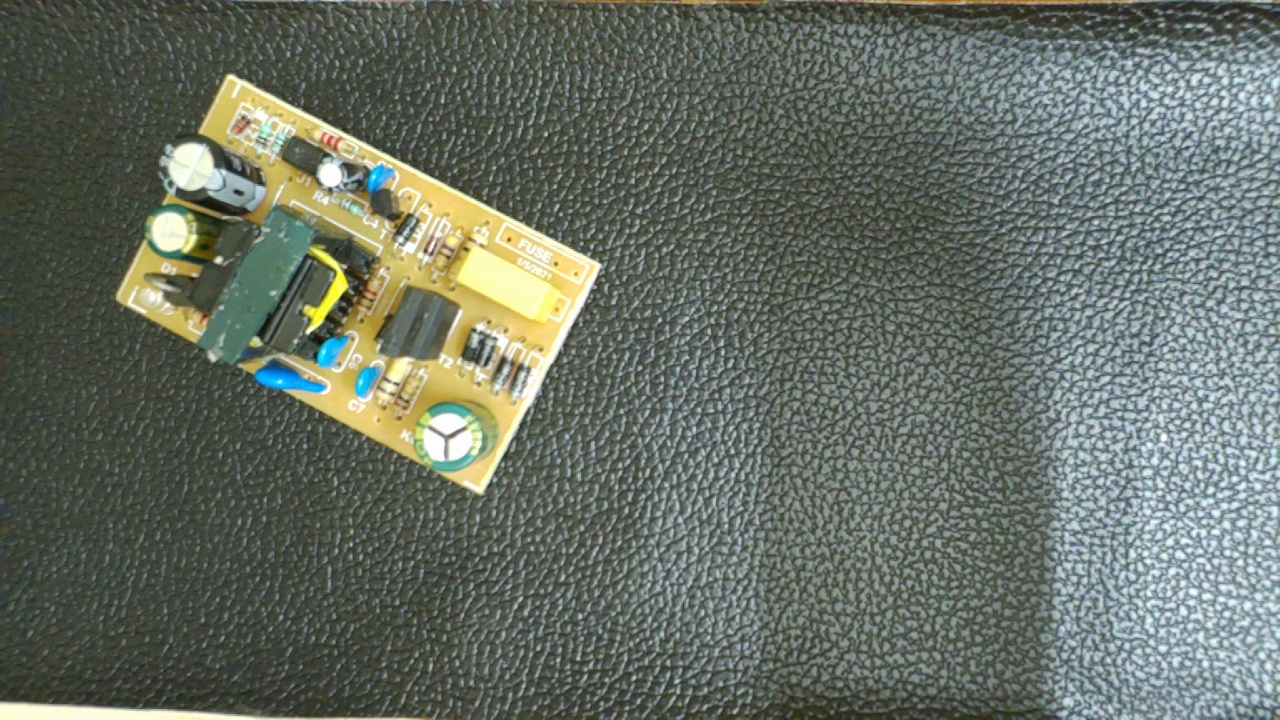hv_capacitor: (413, 401, 498, 473)
mov: (249, 356, 329, 399)
optocoupler: (273, 132, 329, 174)
